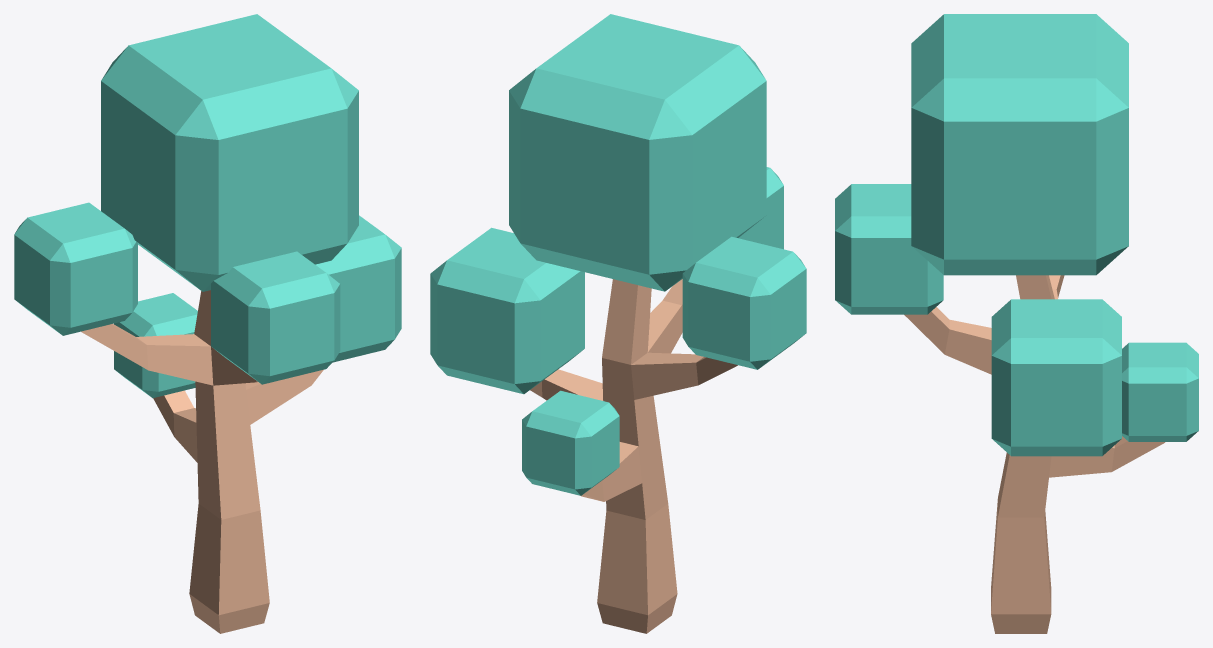
Rendered from tree_detailed.glb.
3 views of the same model, side by side, from view 1: azimuth 30°, elevation 25°; view 2: azimuth 150°, elevation 25°; view 3: azimuth 270°, elevation 25° (orthographic). The views are drawn at different scales.
Visible parts, largest first — view 1: tree_detailed; view 2: tree_detailed; view 3: tree_detailed.
Boxes of the visible parts, x1,y1,x2,y2 form: tree_detailed: (14, 14, 401, 633); tree_detailed: (430, 14, 806, 633); tree_detailed: (835, 14, 1198, 633).
Size of the model in its own units: 0.8471 by 1.33 by 0.7616.
